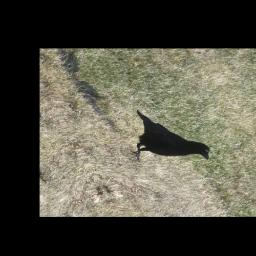Crow: (112, 101, 219, 175)
